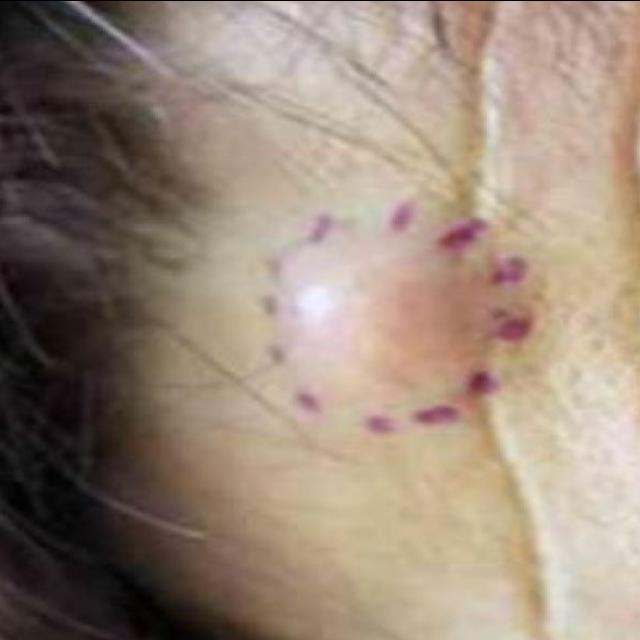nodule: (286, 243, 491, 403)
